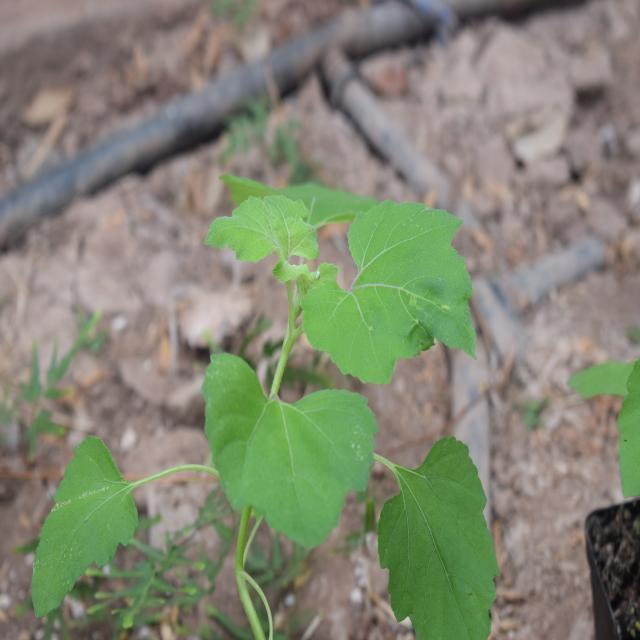cocklebur: (192, 157, 528, 600)
